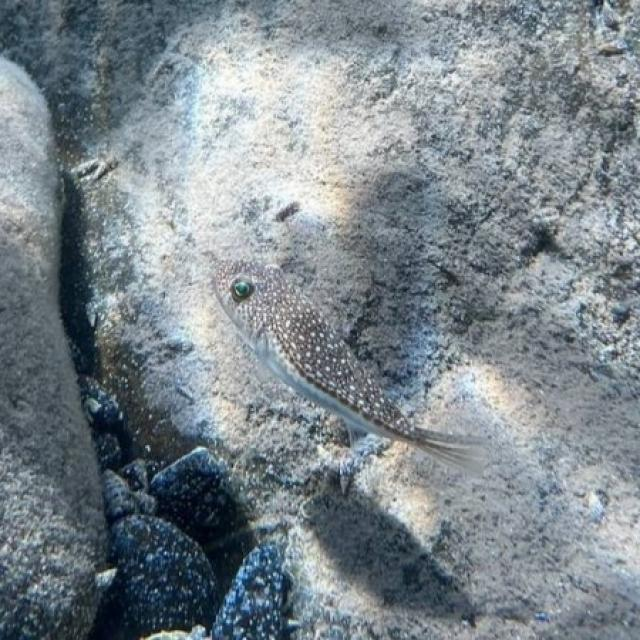Balik: (215, 261, 482, 473)
